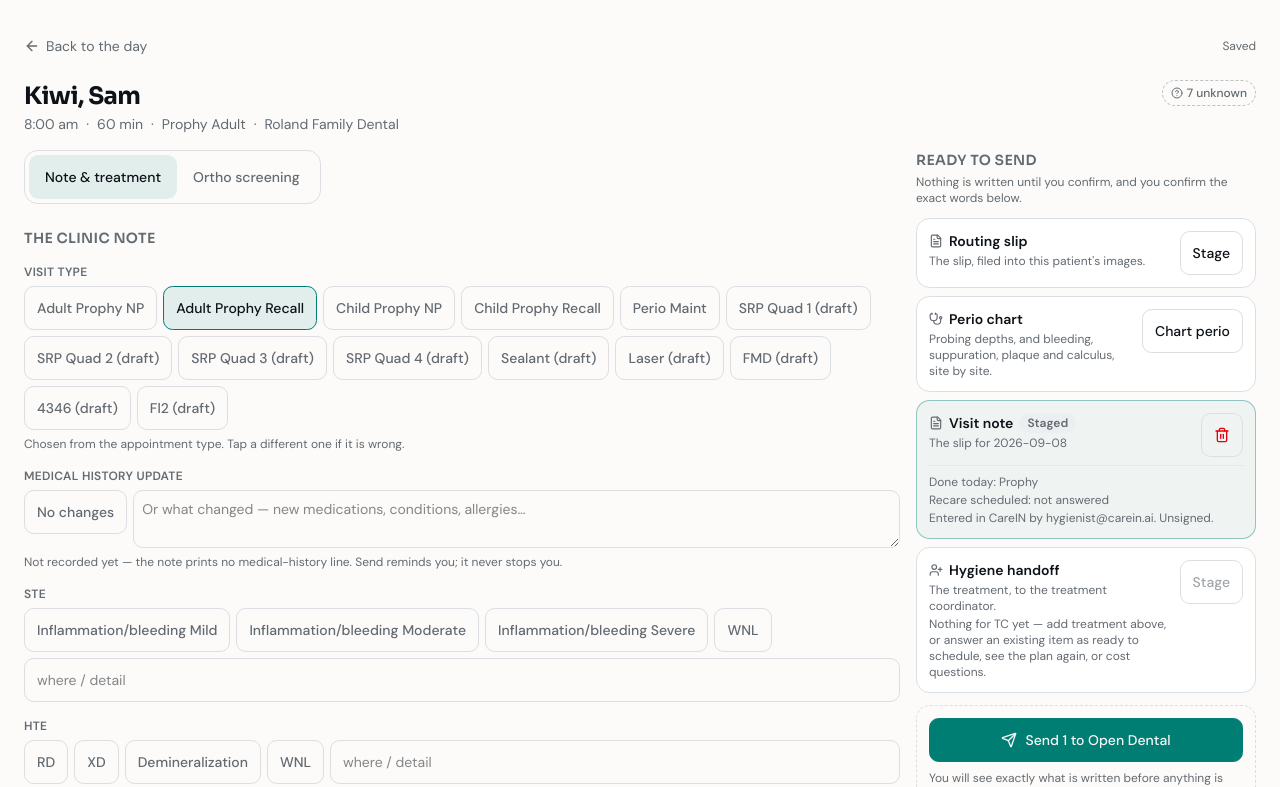
Test case: what the results may claim › never says a note is signed, before or after sending
The width and height of the screenshot is (1280, 787).
What coordinates should you click on to do the following:
click the button with test id "hyg-send-all"
I would click on:
 (1086, 740)
Its box is [929,718,1243,762].
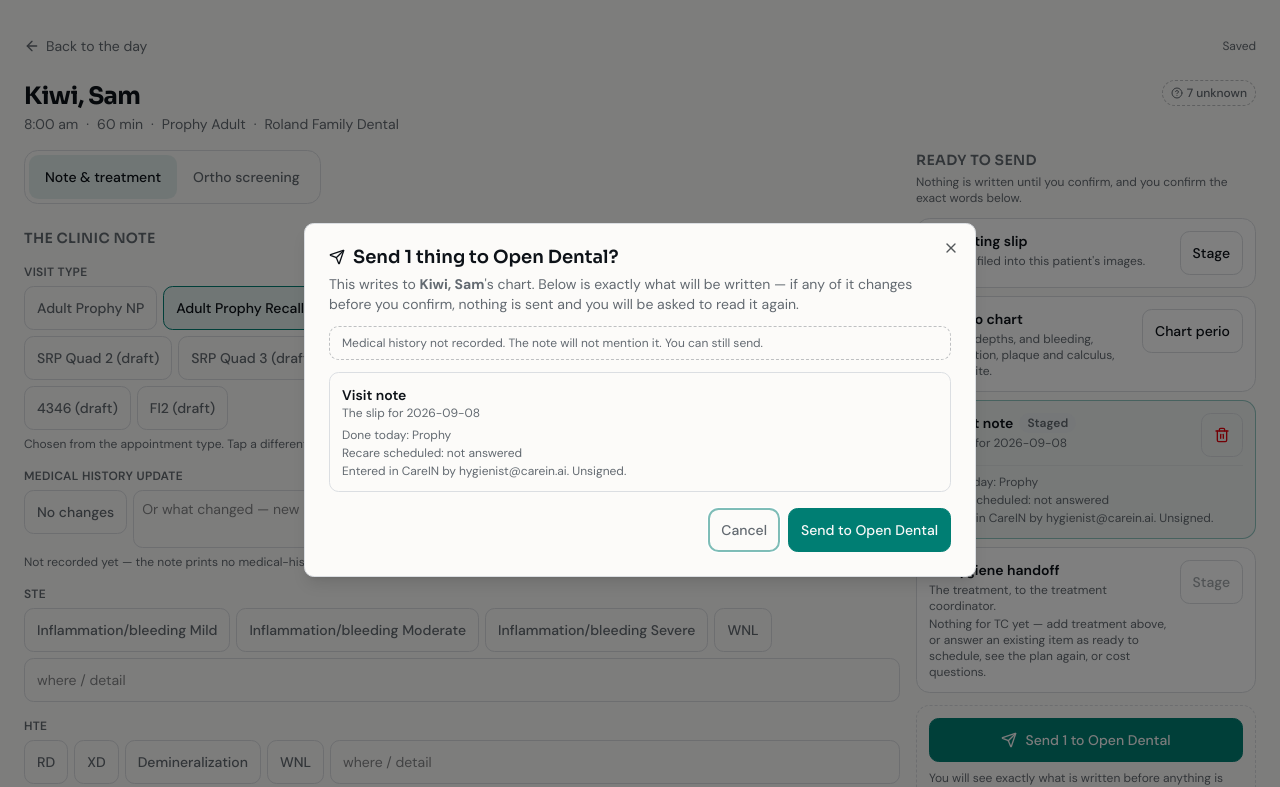
What coordinates should you click on to do the following:
click the button with test id "hyg-confirm-send-accept"
I would click on:
 (870, 530)
Its box is [788,508,951,552].
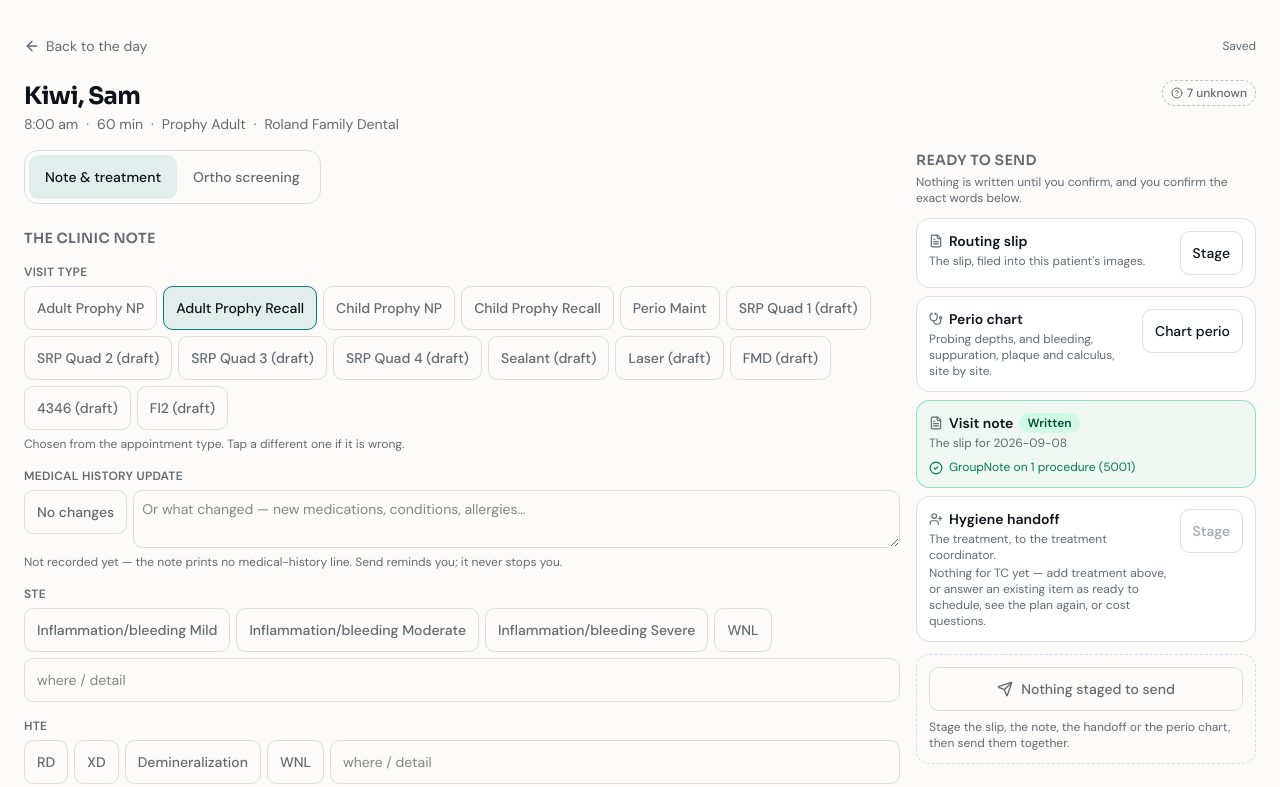
Check: the element with test id "hyg-written-note" is shown, box [929,459,1135,475]
